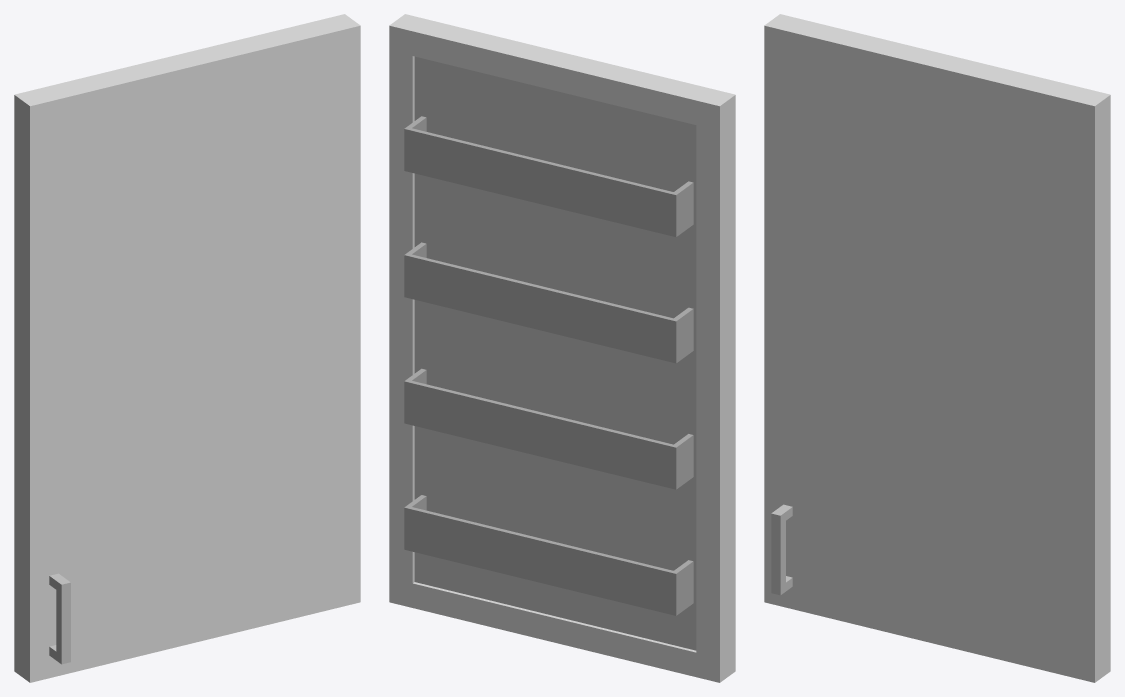
File: Refrigerator1_C1_02.fbx
3 views of the same model, side by side, from view 1: azimuth 30°, elevation 25°; view 2: azimuth 150°, elevation 25°; view 3: azimuth 330°, elevation 25° (orthographic).
Parts seen in each view (by area): view 1: Refrigerator1_C1_02; view 2: Refrigerator1_C1_02; view 3: Refrigerator1_C1_02.
Part boxes in pixels (x1=…): Refrigerator1_C1_02: x1=14, y1=14, x2=360, y2=682; Refrigerator1_C1_02: x1=389, y1=14, x2=735, y2=682; Refrigerator1_C1_02: x1=764, y1=14, x2=1110, y2=682.
Size of the model in its own units: 60 by 100 by 13.67.
